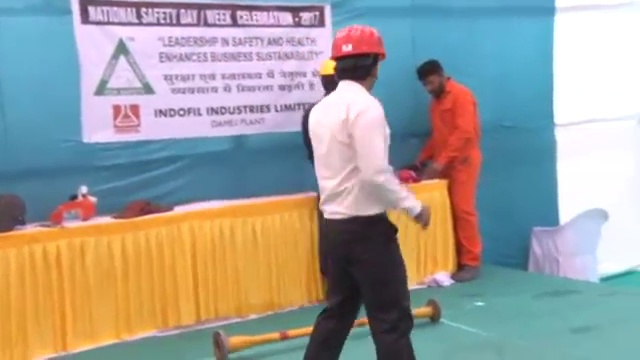helmet: (329, 23, 389, 59), (316, 56, 338, 79)
helmet_off: (415, 57, 452, 100)
helmet_on: (328, 21, 389, 93), (315, 53, 342, 95)
person: (307, 21, 433, 360), (413, 55, 485, 283)
